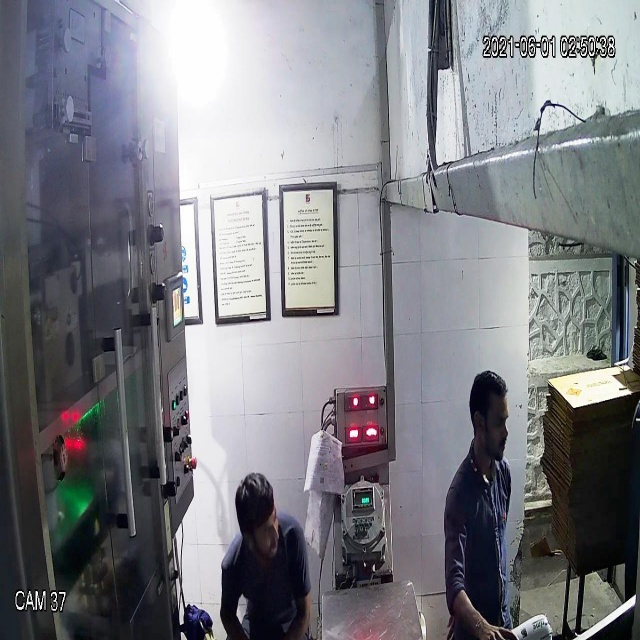Sin_gafas: (464, 404, 512, 441)
